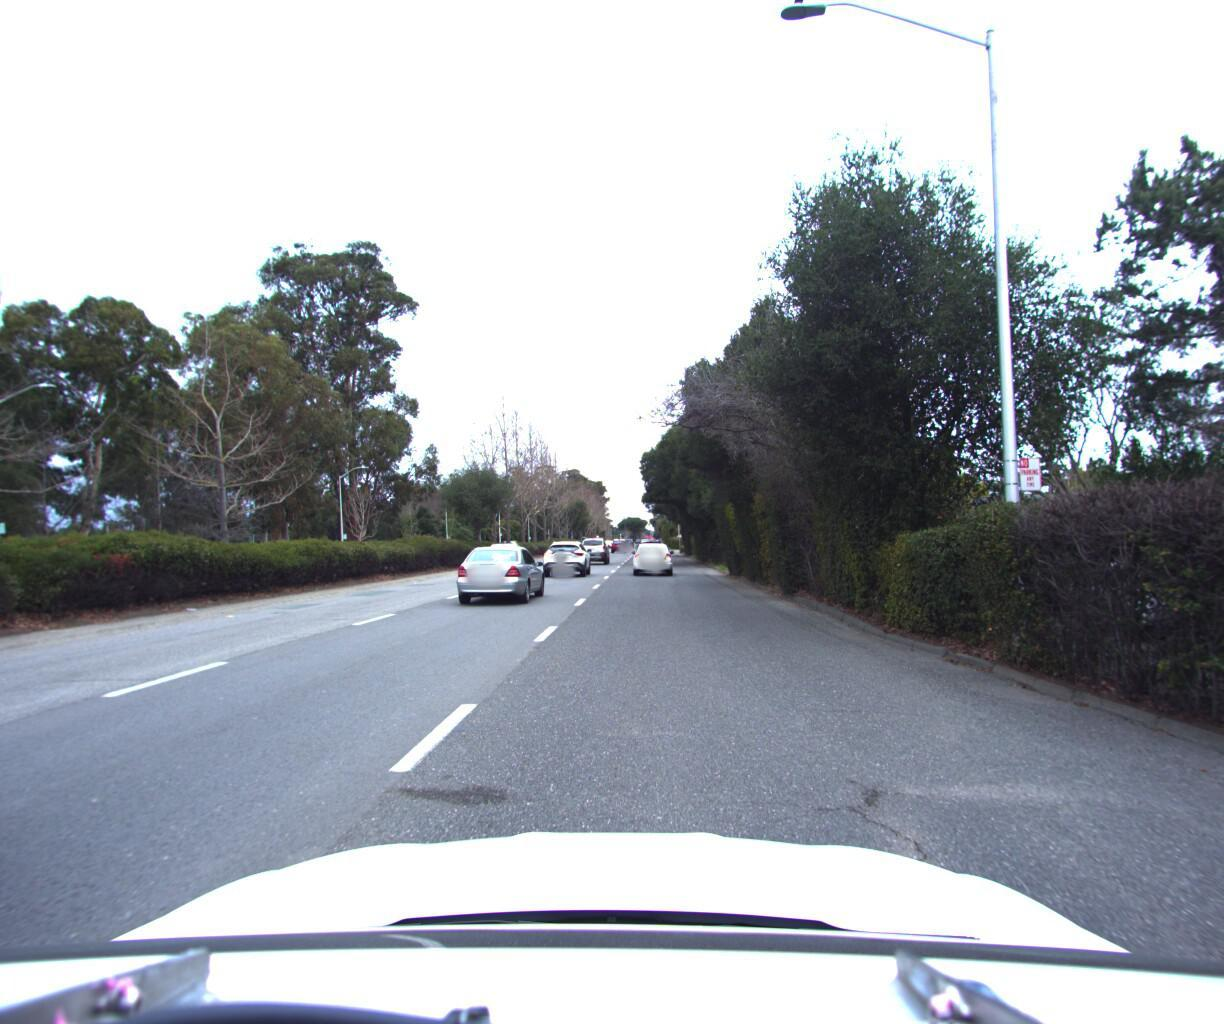car: (1153, 547, 1224, 702), (446, 539, 552, 605), (542, 537, 593, 575), (476, 537, 530, 569), (631, 537, 673, 574), (577, 533, 610, 564)
